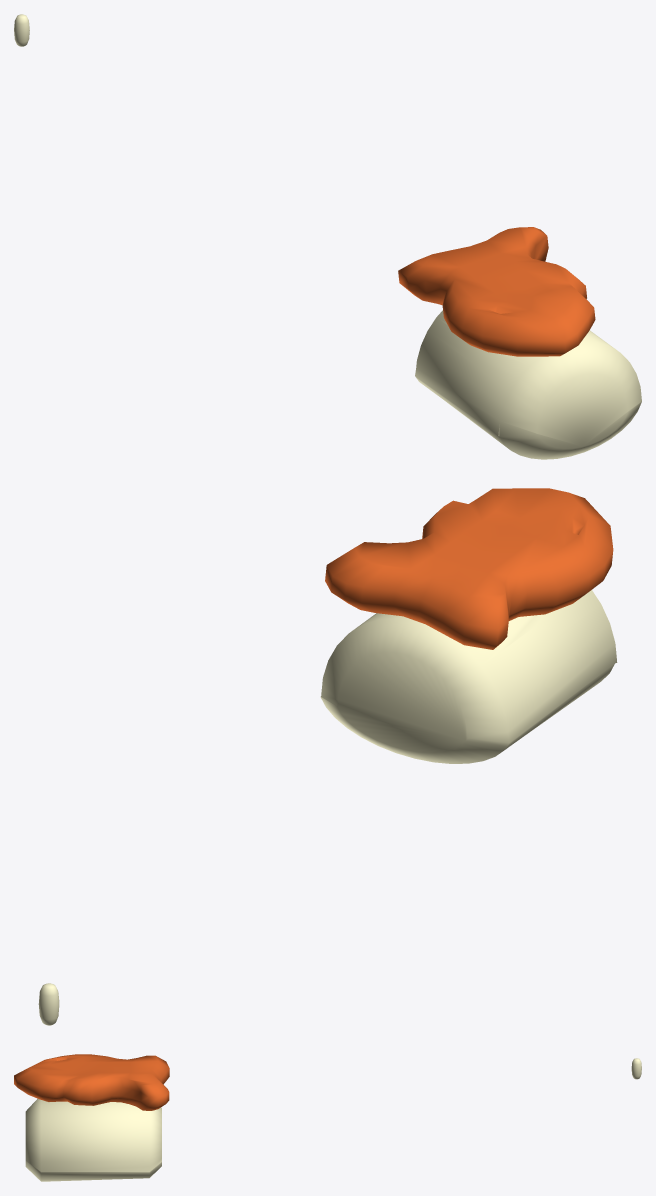
The model's file is TrashSushi.fbx.
3 views of the same model, one above another, from view 1: azimuth 30°, elevation 25°; view 2: azimuth 150°, elevation 25°; view 3: azimuth 270°, elevation 25° (orthographic). The views are drawn at different scales.
Parts seen in each view (by area): view 1: SushiBase, Plane; view 2: SushiBase, Plane, GrainofRice; view 3: SushiBase, Plane.
Part boxes in pixels (<box>): SushiBase: <box>415,310,641,459</box>; Plane: <box>398,227,595,356</box>; SushiBase: <box>320,590,617,763</box>; Plane: <box>325,488,613,649</box>; GrainofRice: <box>38,983,59,1025</box>; SushiBase: <box>25,1098,161,1181</box>; Plane: <box>14,1054,169,1110</box>.
Bounding box in the file's own units: 112 × 98.32 × 543.
